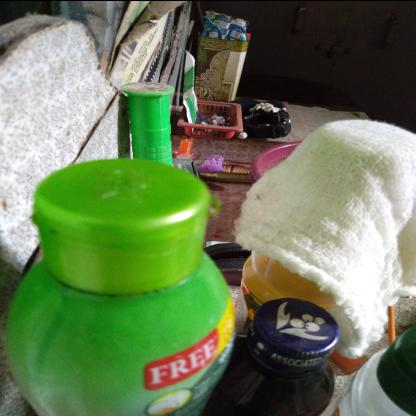bottle: (1, 2, 211, 180), (1, 177, 263, 312)
